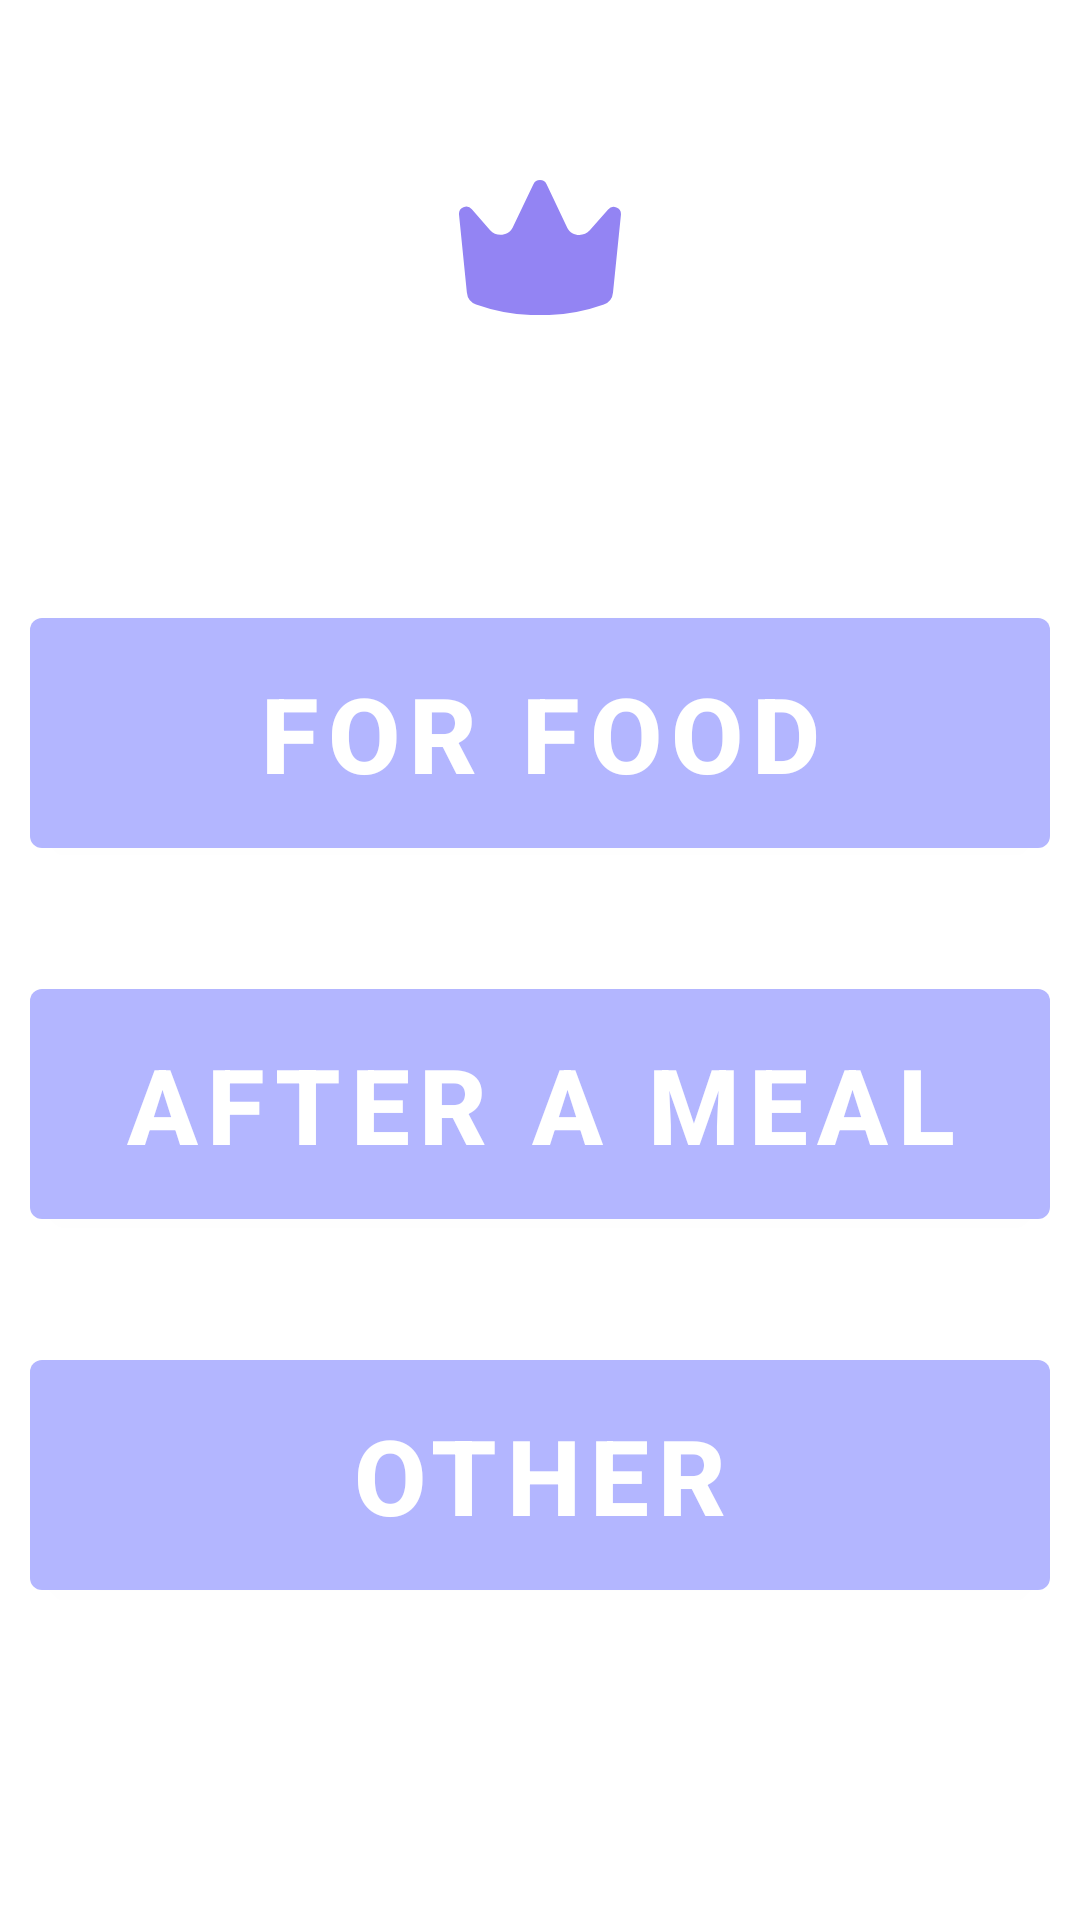

Screen size 1080px x 1920px. Icon name, then its box in pixels as (x1, y1, x2, y2):
corwn: (459, 180, 621, 315)
